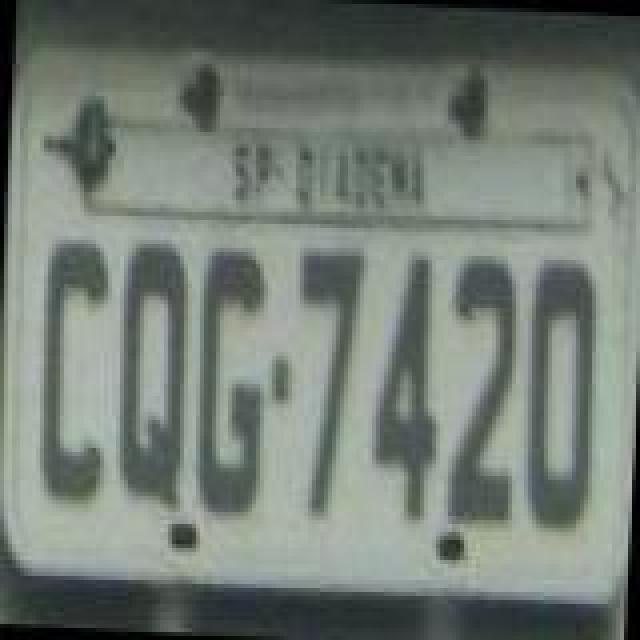2: (438, 252, 522, 524)
4: (370, 248, 446, 520)
7: (282, 246, 366, 522)
C: (30, 234, 114, 510)
G: (190, 246, 274, 522)
O: (518, 254, 602, 530)
Q: (108, 238, 196, 514)
